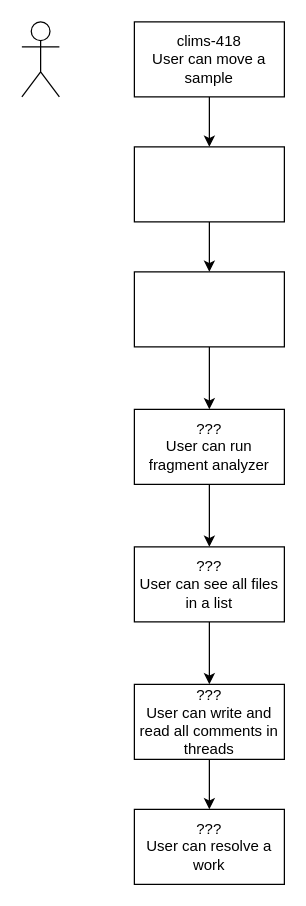
Some shapes in this 306 by 906 pixel diagram are drawn without their labels. The shapes that lost their labels are listed below. From the top down, each one's centre as x and y in pixels, then its label:
At (x=40, y=59): "RE".
At (x=208, y=184): "clims-431 User can set work specific properties".
At (x=208, y=309): "??? User can print labels".
